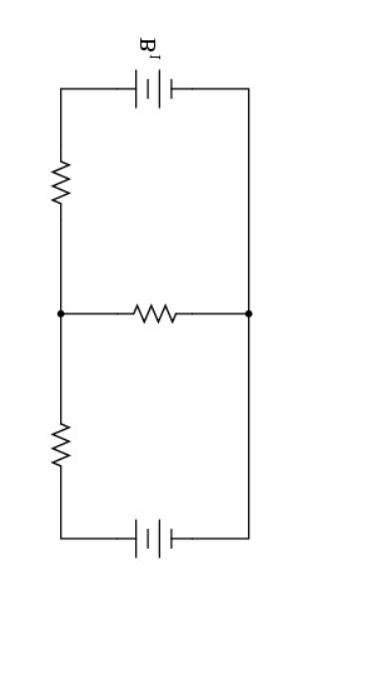resistor: (37, 142, 85, 240), (39, 407, 91, 481), (120, 287, 200, 329)
